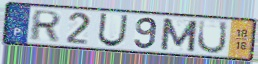2: (64, 12, 92, 46)
9: (134, 17, 158, 50)
M: (159, 17, 200, 53)
R: (27, 8, 63, 42)
U: (96, 12, 130, 48), (196, 19, 230, 55)
